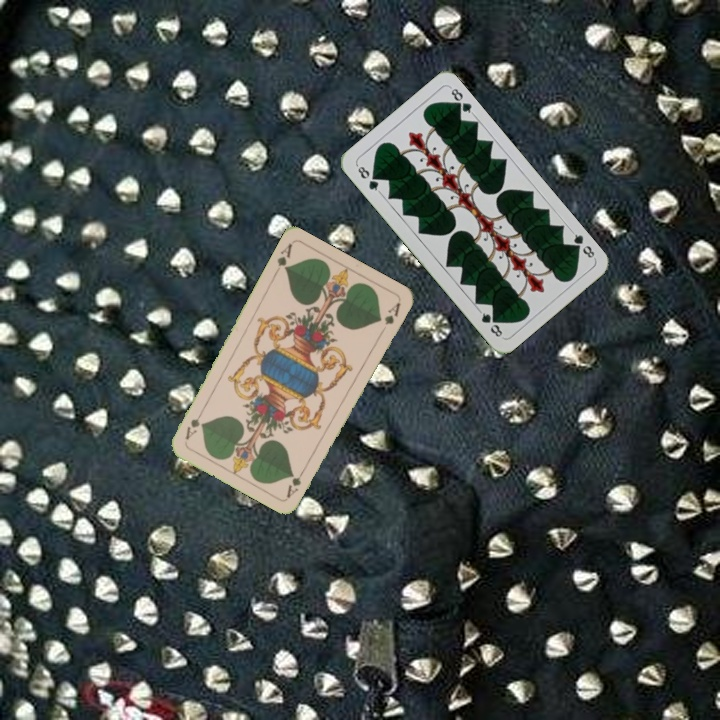G8: (567, 227, 598, 261), (353, 161, 383, 195)
GA: (270, 239, 295, 278), (283, 463, 309, 500)
